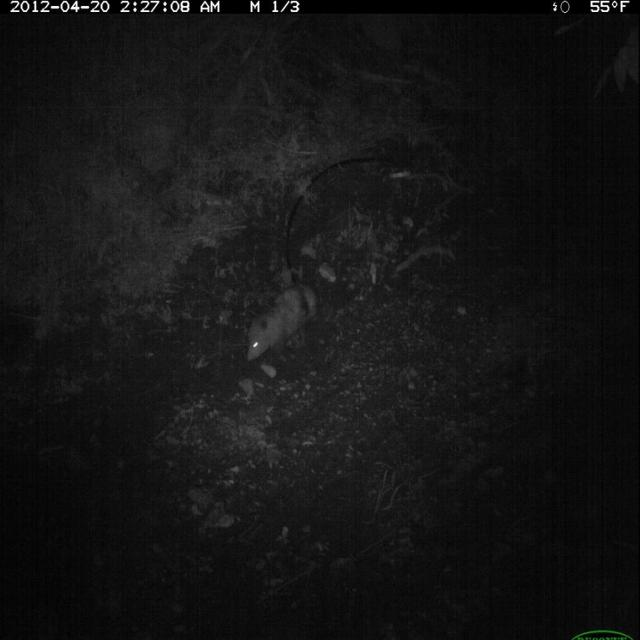opossum: (245, 273, 321, 370)
